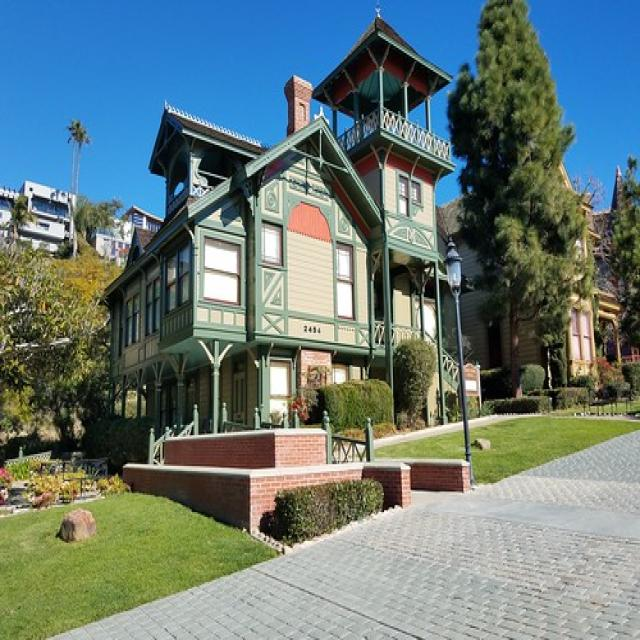building: (98, 11, 481, 460)
